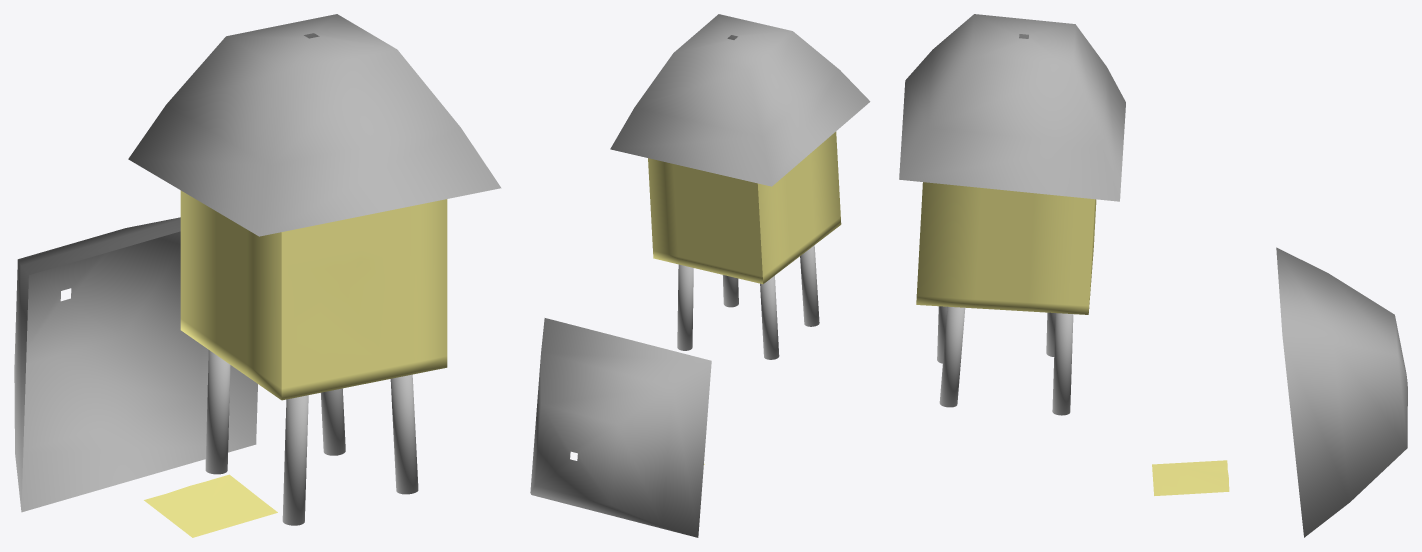
Rendered from Phantom_house2.fbx.
The picture shows the model from 3 angles, left to right: view 1: azimuth 30°, elevation 25°; view 2: azimuth 150°, elevation 25°; view 3: azimuth 270°, elevation 25°; orthographic projection. The views are drawn at different scales.
Visible parts, largest first — view 1: s.0044, s.004, s.0022, s.005, p.0045, p.0041, p.0043, p.0040; view 2: s.004, s.0044, s.0022, p.0040, p.0043, p.0045, p.0041; view 3: s.0044, s.004, s.0022, s.005, p.0040, p.0041.
Part boxes in pixels (x1,y1,x2,y2): s.0044: [128, 14, 501, 236]; s.004: [14, 217, 257, 512]; s.0022: [180, 190, 447, 400]; s.005: [144, 474, 277, 537]; p.0045: [282, 395, 308, 525]; p.0041: [390, 374, 418, 494]; p.0043: [205, 350, 230, 474]; p.0040: [321, 388, 345, 455]; s.004: [530, 318, 711, 537]; s.0044: [610, 14, 870, 186]; s.0022: [648, 131, 841, 284]; p.0040: [677, 264, 693, 350]; p.0043: [760, 275, 779, 359]; p.0045: [800, 245, 819, 326]; p.0041: [722, 275, 738, 307]; s.0044: [899, 14, 1125, 201]; s.004: [1276, 247, 1407, 537]; s.0022: [916, 182, 1096, 314]; s.005: [1152, 460, 1229, 495]; p.0040: [1052, 313, 1073, 415]; p.0041: [939, 306, 965, 407].
Bounding box in the file's own units: 154 × 345 × 345.
